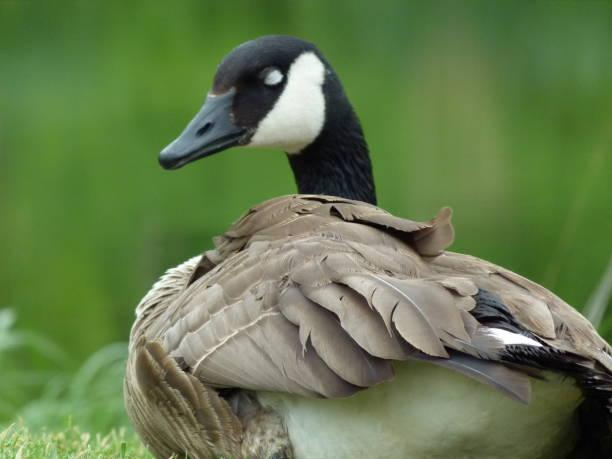Canadian-Goose: (130, 34, 612, 459)
